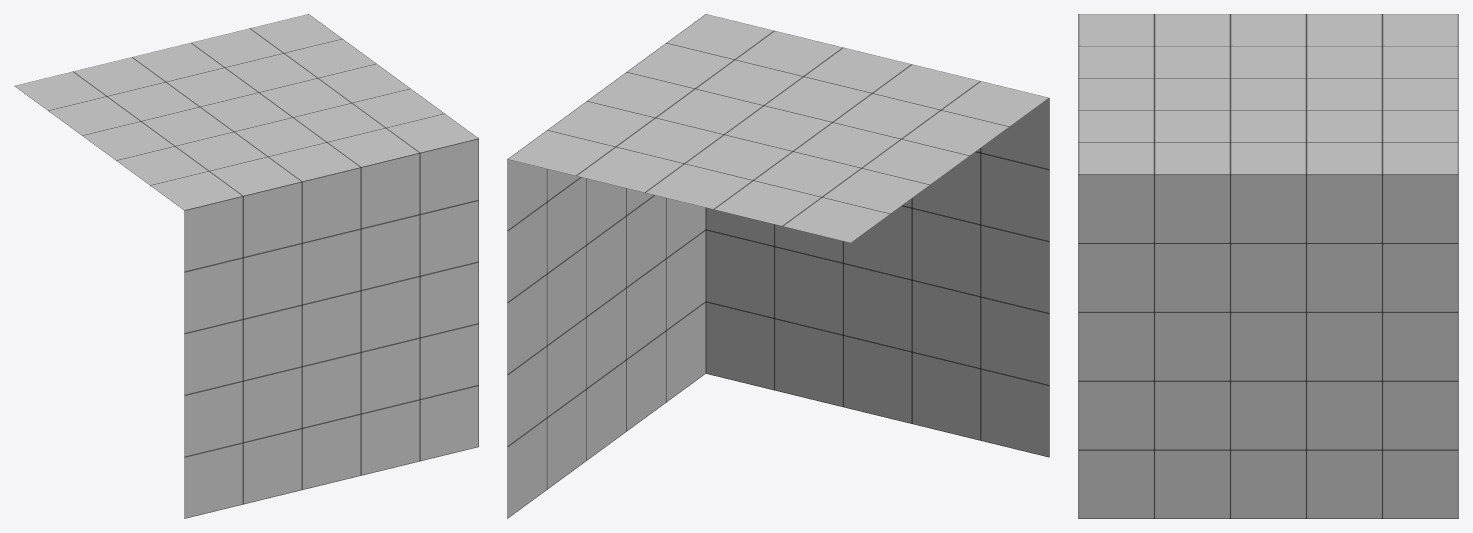
The model's file is connection_platform.fbx.
The picture shows the model from 3 angles, left to right: view 1: azimuth 30°, elevation 25°; view 2: azimuth 150°, elevation 25°; view 3: azimuth 270°, elevation 25°; orthographic projection. The views are drawn at different scales.
Parts seen in each view (by area): view 1: Cube 3; view 2: Cube 3; view 3: Cube 3.
Part boxes in pixels (x1,y1,x2,y2): Cube 3: (14,14,478,518); Cube 3: (507,14,1049,518); Cube 3: (1078,14,1458,518).
Bounding box in the file's own units: 2 × 2 × 2.
